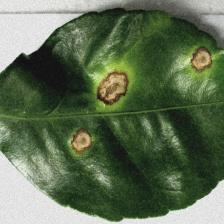canker: (49, 34, 214, 155)
